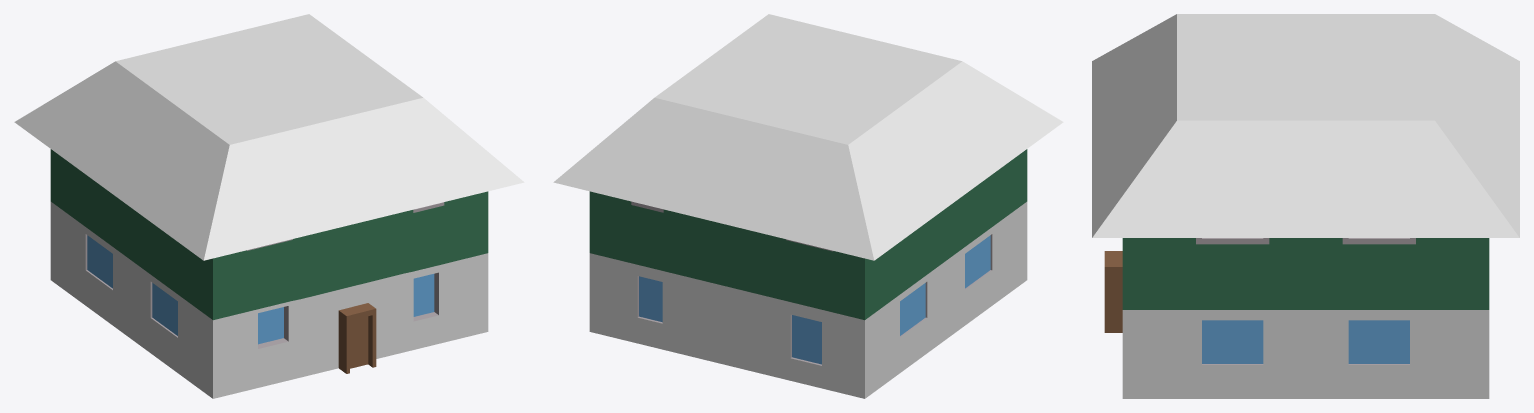
Rendered from House4.fbx.
The picture shows the model from 3 angles, left to right: view 1: azimuth 30°, elevation 25°; view 2: azimuth 150°, elevation 25°; view 3: azimuth 270°, elevation 25°; orthographic projection. The views are drawn at different scales.
Visible parts, largest first — view 1: Block.Base.003, Block.Base.002; view 2: Block.Base.003, Block.Base.002; view 3: Block.Base.003, Block.Base.002.
Part boxes in pixels (x1,y1,x2,y2): Block.Base.003: [14, 14, 524, 260]; Block.Base.002: [50, 149, 488, 398]; Block.Base.003: [553, 14, 1063, 260]; Block.Base.002: [589, 149, 1027, 398]; Block.Base.003: [1092, 14, 1519, 237]; Block.Base.002: [1104, 238, 1489, 398].
Size of the model in its own units: 224 by 151 by 229.
